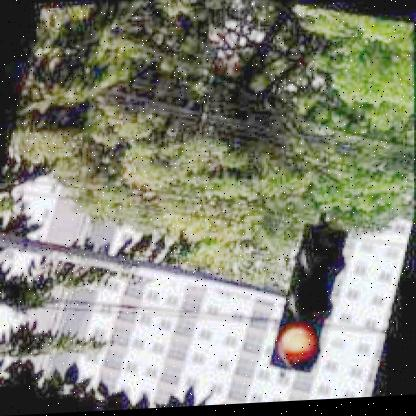Traffic Light -Red-: (267, 223, 352, 379)
